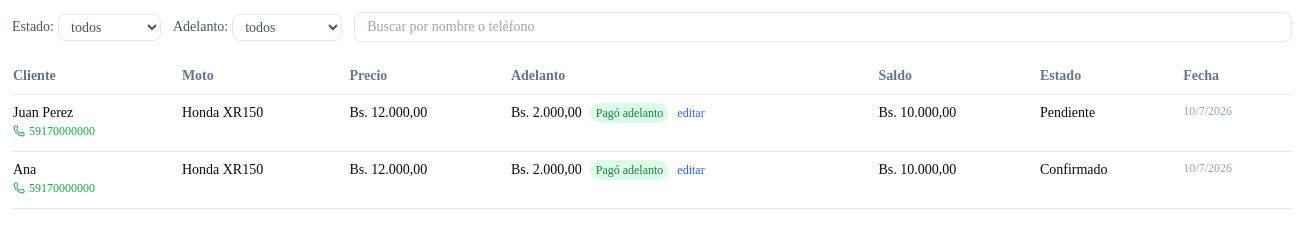
CompradoresClient › filtra por estado
Select "confirmado" in the dropdown labelled "Estado:": (110, 27) top-left (58, 14), bottom-right (161, 40)
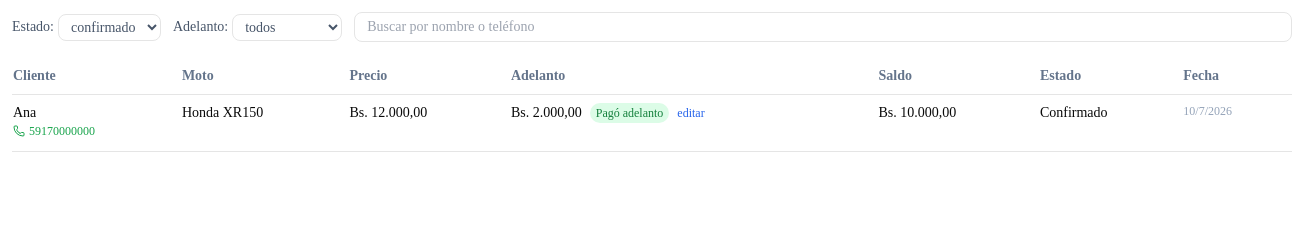
Check: the text "Ana" is shown, box top-left (13, 105), bottom-right (36, 120)
Check: the text "Juan Perez" is gone
